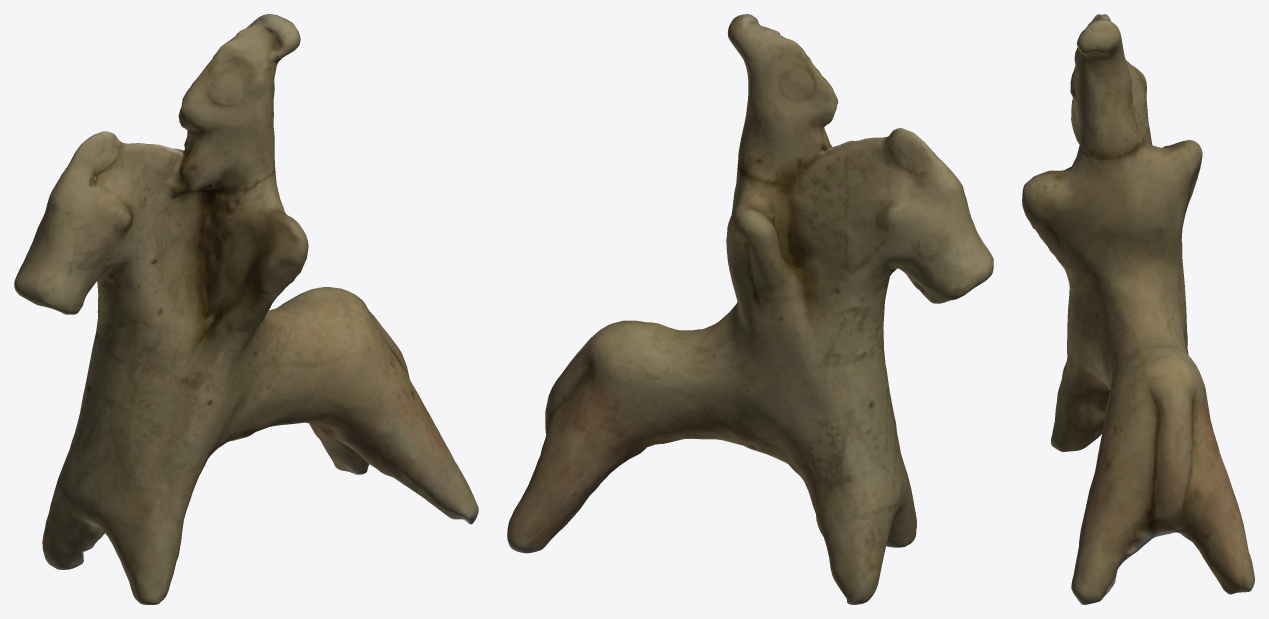
The model's file is sf-fitzwilliam-horse-rider.glb.
3 renders of one model, left to right at view 1: azimuth 30°, elevation 25°; view 2: azimuth 150°, elevation 25°; view 3: azimuth 270°, elevation 25°, orthographic. The views are drawn at different scales.
Visible parts, largest first — view 1: Object_2; view 2: Object_2; view 3: Object_2.
Boxes of the visible parts, x1,y1,x2,y2 form: Object_2: (14, 14, 478, 604); Object_2: (507, 14, 993, 604); Object_2: (1022, 14, 1254, 604).
Bounding box in the file's own units: 0.1124 × 0.13 × 0.0548.
1 material, 1 textured.
